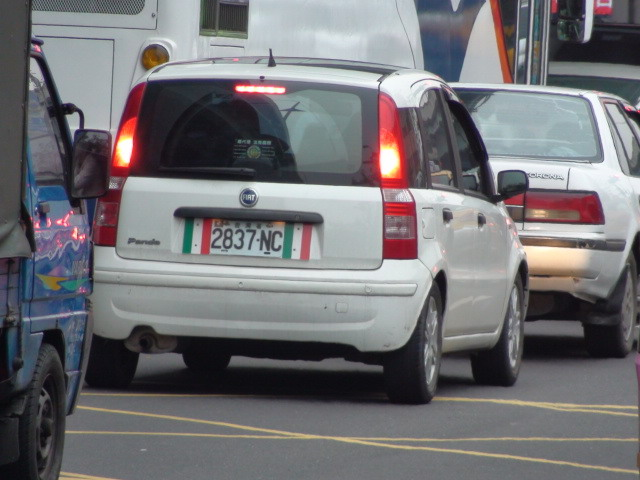plate: (208, 217, 283, 260)
